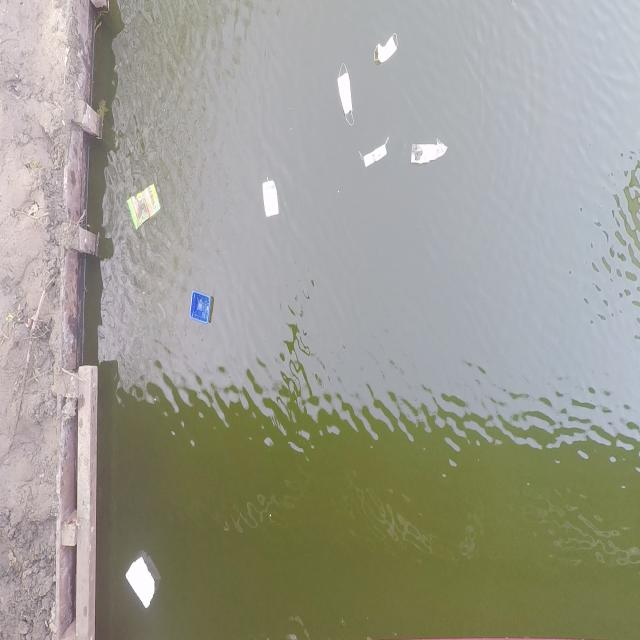Autre plastique: (124, 550, 159, 617), (126, 181, 166, 234), (256, 168, 284, 226), (187, 285, 216, 331)
Non plastique: (334, 56, 357, 136), (358, 136, 393, 181), (368, 32, 403, 68)
